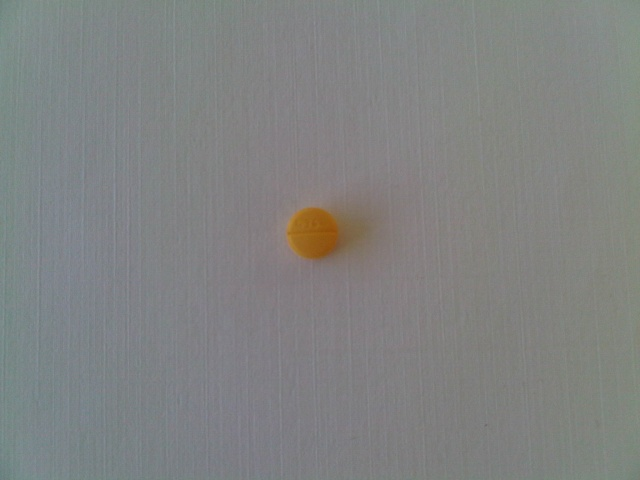|: (287, 226, 339, 237)
